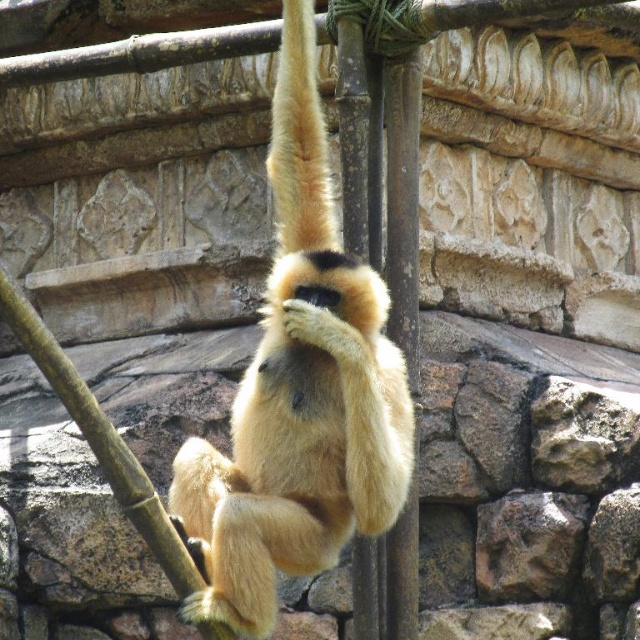Monkey: (168, 0, 417, 640)
